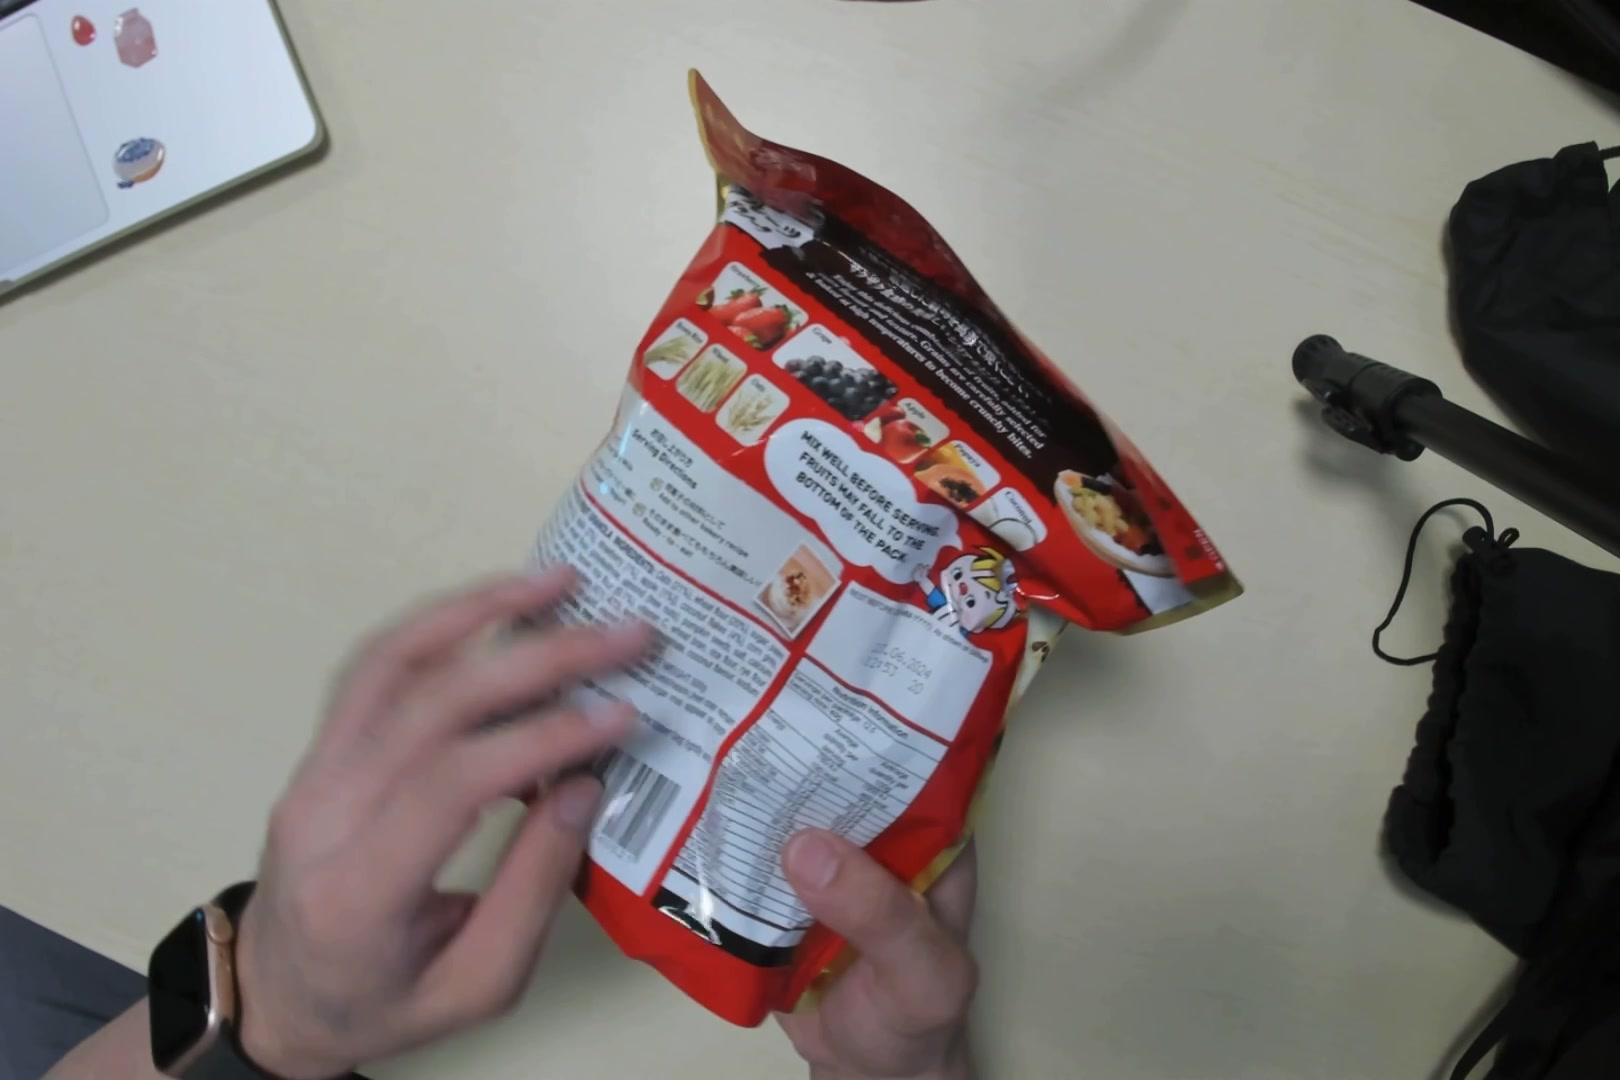BreakfastCereals_300-399g_NonHalal_NonHealthy: (497, 155, 1174, 997)
